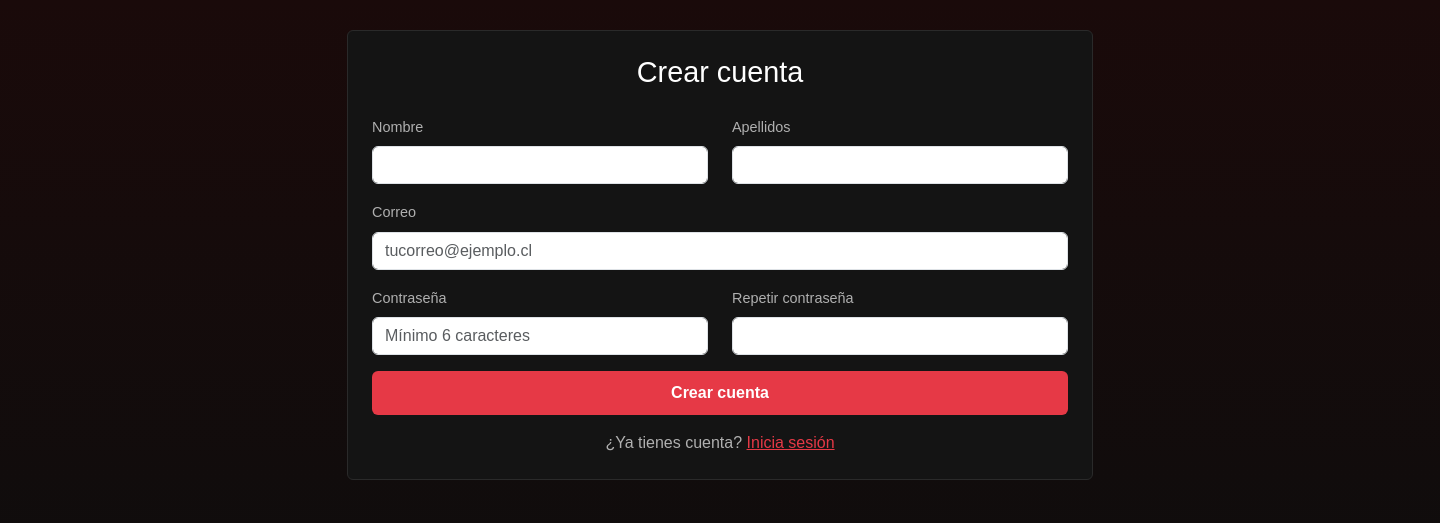
Test case: Register (página) › avisa cuando las contraseñas no coinciden
Type "Ana" into the field labelled "Nombre". click: (540, 165)
box: top-left (372, 146), bottom-right (708, 184)
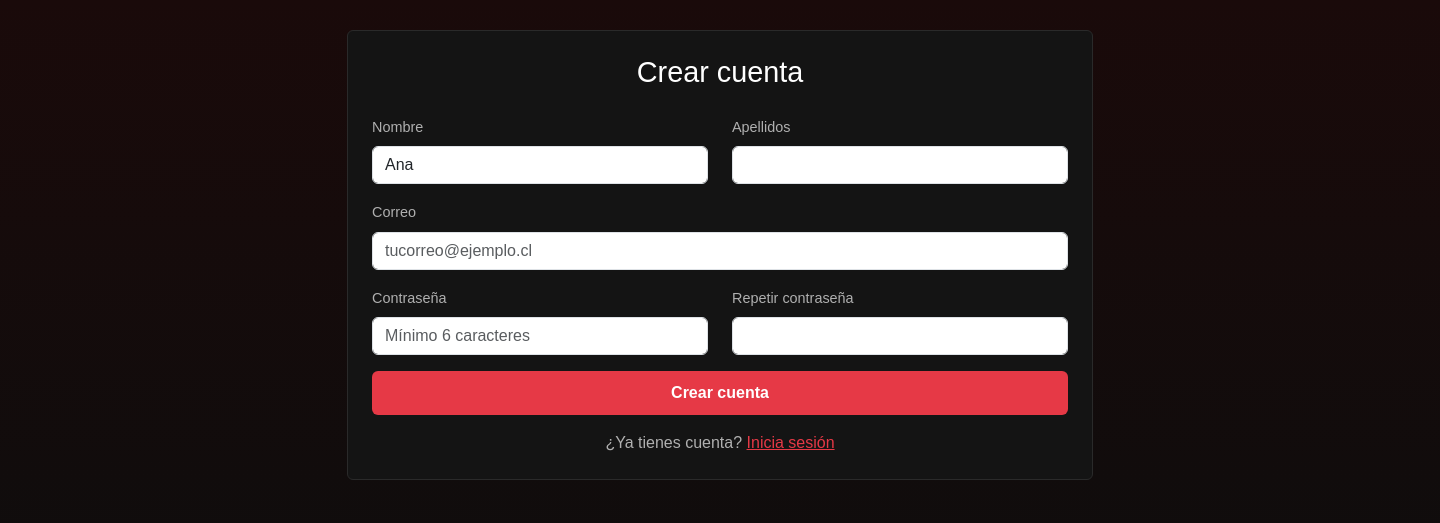
Type "Pérez" into the field labelled "Apellidos". click: (900, 165)
box: top-left (732, 146), bottom-right (1068, 184)
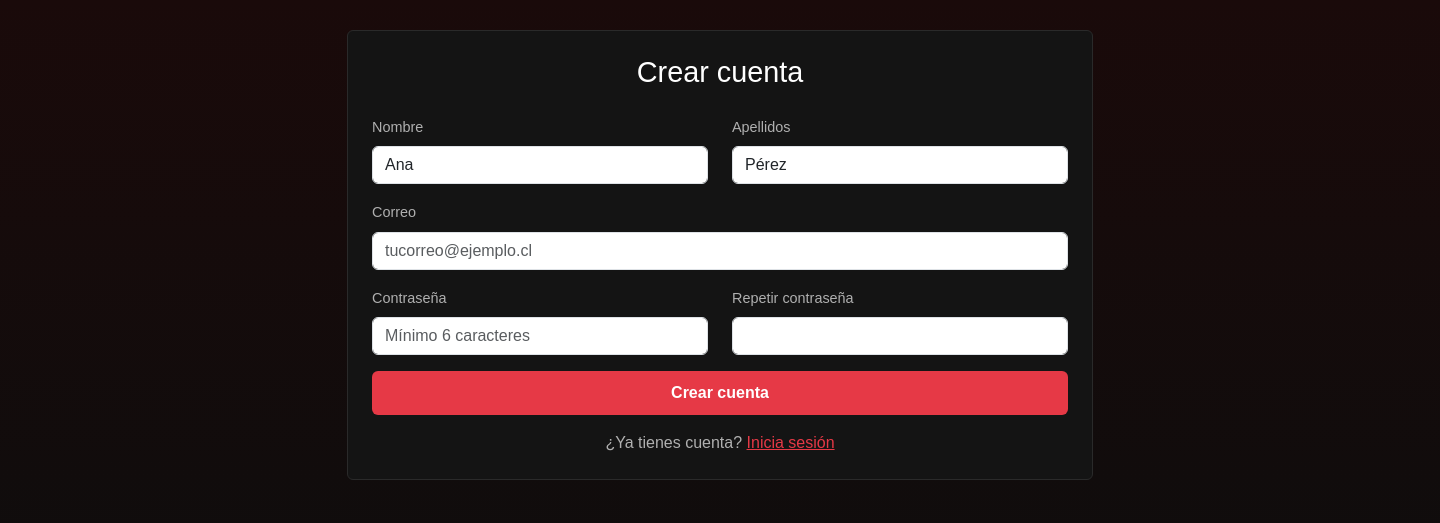
Type "ana@mail.cl" into the field labelled "Correo". click: (720, 251)
box: top-left (372, 232), bottom-right (1068, 270)
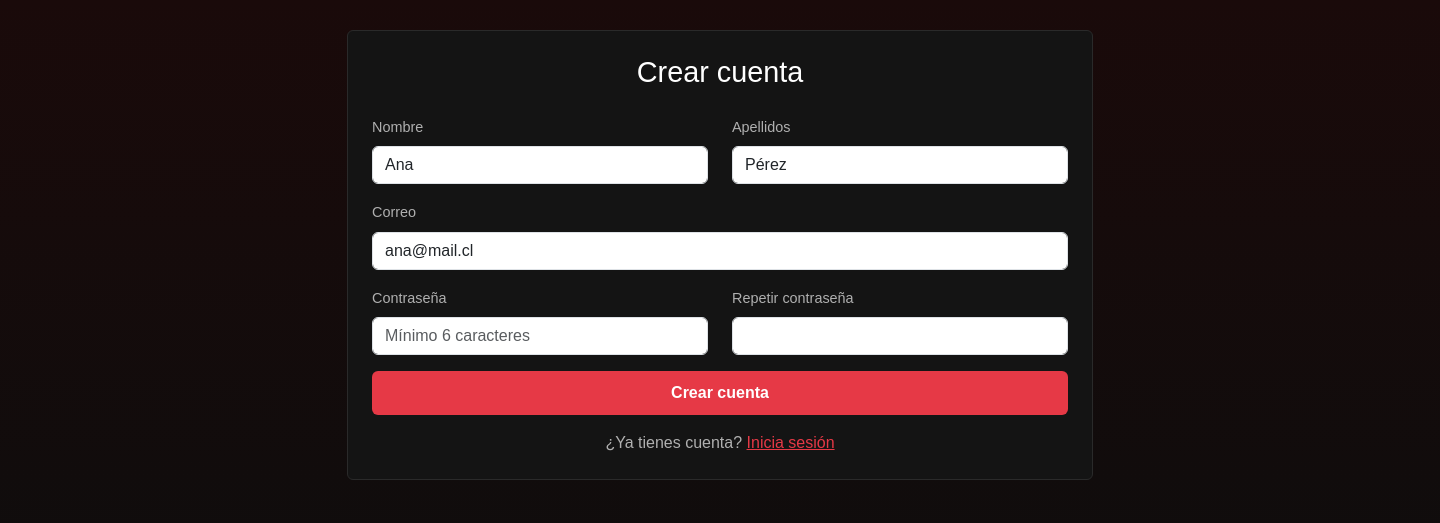
Type "123456" into the password field labelled "Contraseña". click: (540, 336)
box: top-left (372, 317), bottom-right (708, 355)
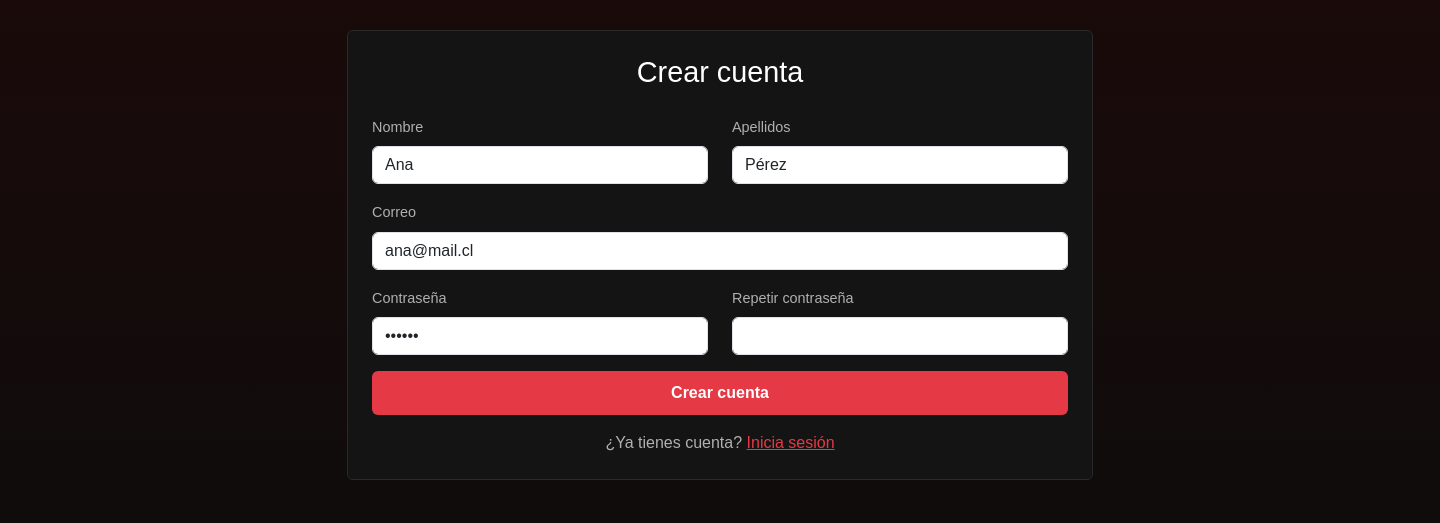
Type "distinta" into the password field labelled "Repetir contraseña". click: (900, 336)
box: top-left (732, 317), bottom-right (1068, 355)
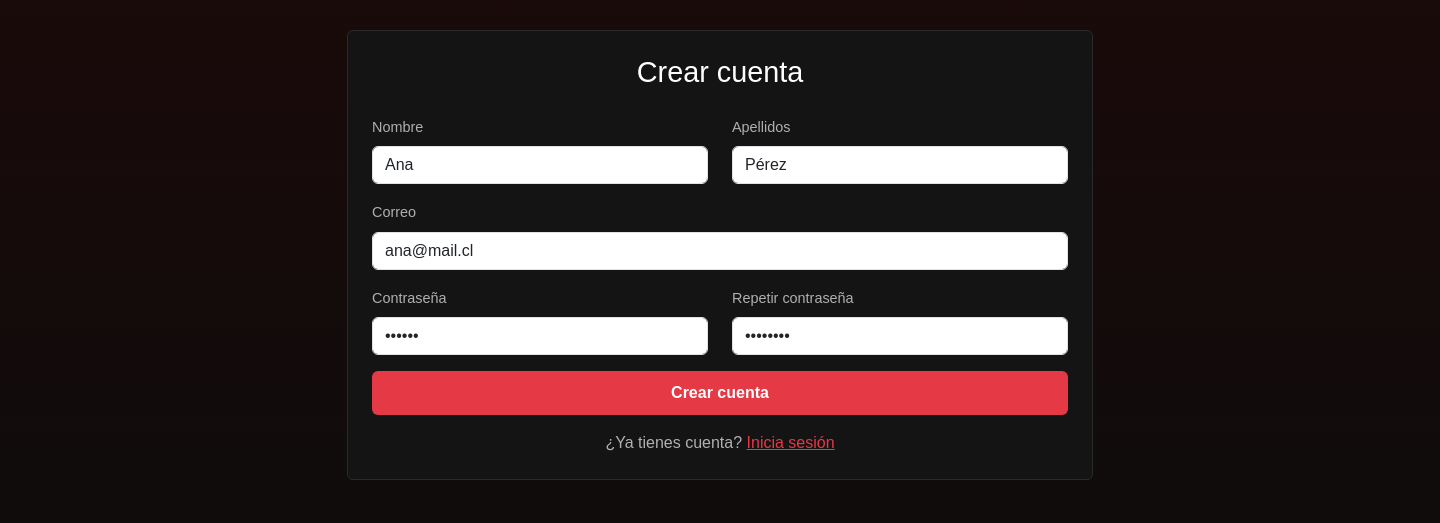
Click the button "Crear cuenta". click: (720, 393)
box: top-left (372, 371), bottom-right (1068, 415)
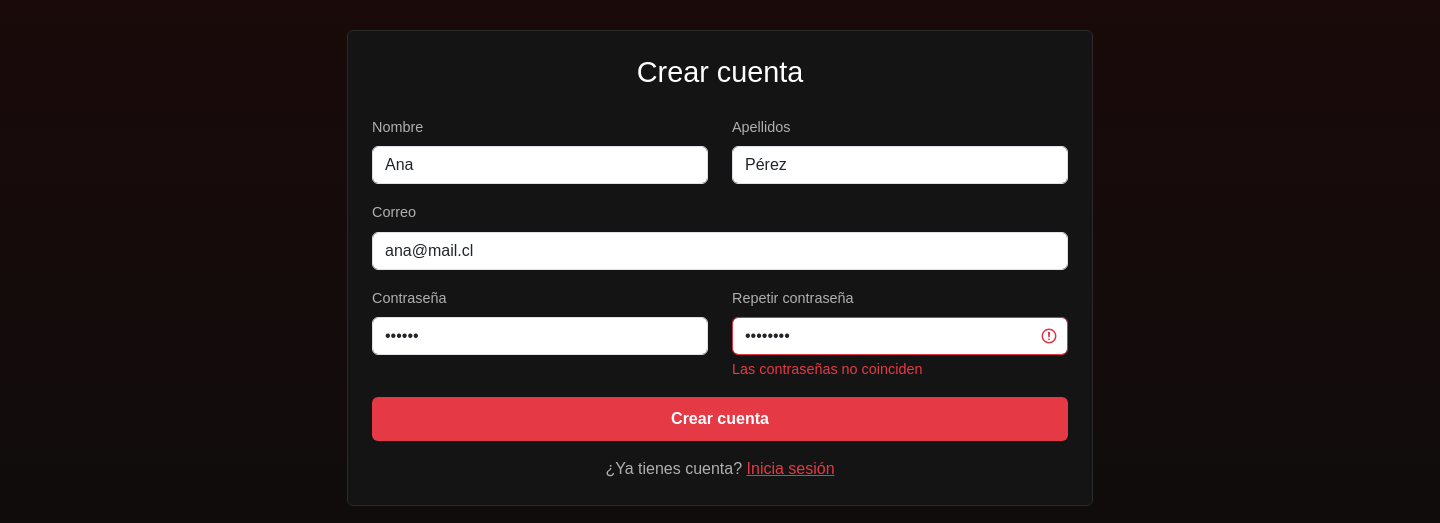
expect the text "Las contraseñas no coinciden" is shown: met, box top-left (732, 361), bottom-right (922, 377)
